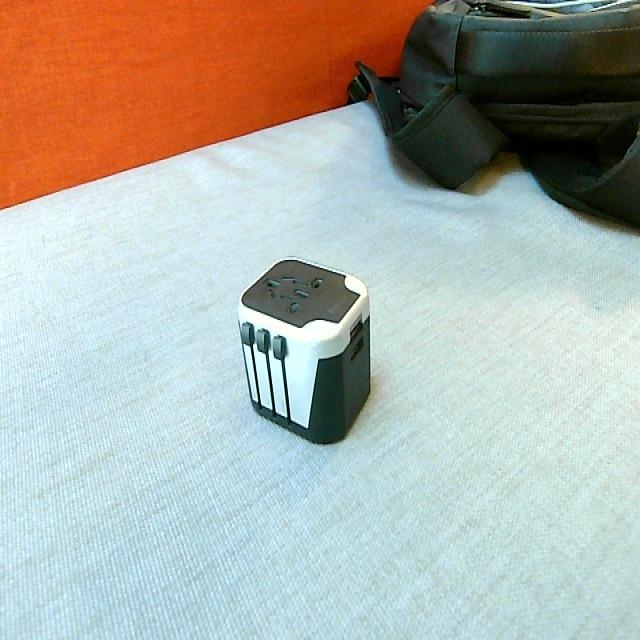adapter: (236, 256, 371, 444)
